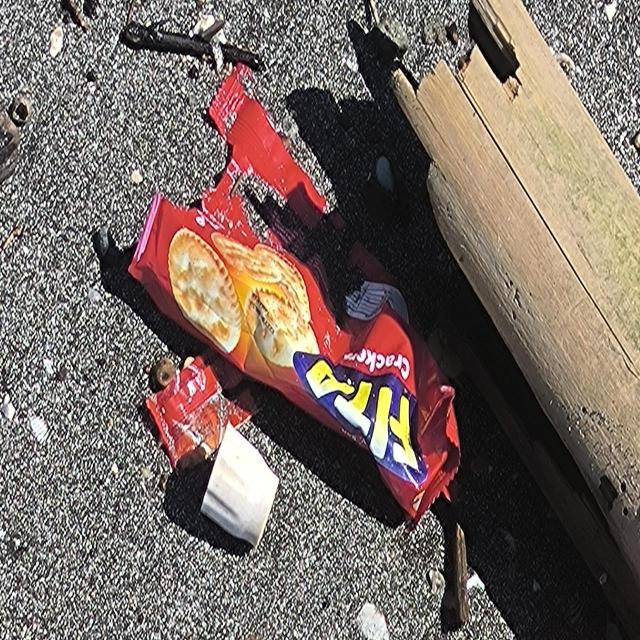plastic_waste: (129, 62, 463, 524)
